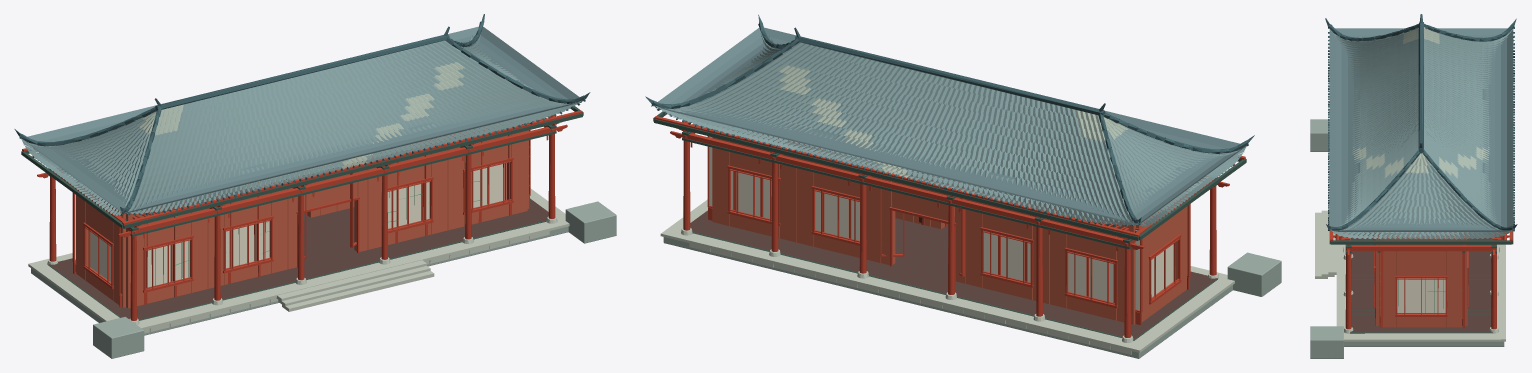
The model's file is daguanyuan_gate.glb.
The picture shows the model from 3 angles, left to right: view 1: azimuth 30°, elevation 25°; view 2: azimuth 150°, elevation 25°; view 3: azimuth 270°, elevation 25°; orthographic projection. The views are drawn at different scales.
Visible parts, largest first — view 1: r15_daguanyuan_gate_Sunwen_r18_ceremonial_tile.001, r15_daguanyuan_gate_Sunwen_r18_vermillion-wall_plaster.001, r15_daguanyuan_gate_Sunwen_r18_ceremonial_wood.001, r15_daguanyuan_gate_Sunwen_r18_ceremonial_roof.001, r15_daguanyuan_gate_Sunwen_r18_ceremonial_cutstone.001, Mobile_daguanyuan_gate_floorwood, r15_daguanyuan_gate_Sunwen_r18_ceremonial_screen.002, r15_daguanyuan_gate_Sunwen_r18_ceremonial_darkwood.001, r15_daguanyuan_gate_Sunwen_r18_ceremonial_tiledark.001, r15_daguanyuan_gate_Sunwen_r18_ceremonial_stone.001, r15_daguanyuan_gate_Sunwen_r18_ceremonial_tilelight.001, r15_daguanyuan_gate_Sunwen_r18_ceremonial_latticewood.001; view 2: r15_daguanyuan_gate_Sunwen_r18_ceremonial_tile.001, r15_daguanyuan_gate_Sunwen_r18_vermillion-wall_plaster.001, r15_daguanyuan_gate_Sunwen_r18_ceremonial_wood.001, r15_daguanyuan_gate_Sunwen_r18_ceremonial_roof.001, Mobile_daguanyuan_gate_floorwood, r15_daguanyuan_gate_Sunwen_r18_ceremonial_cutstone.001, r15_daguanyuan_gate_Sunwen_r18_ceremonial_screen.001, r15_daguanyuan_gate_Sunwen_r18_ceremonial_darkwood.001, r15_daguanyuan_gate_Sunwen_r18_ceremonial_tiledark.001, r15_daguanyuan_gate_Sunwen_r18_ceremonial_stone.001, r15_daguanyuan_gate_Sunwen_r18_ceremonial_tilelight.001, r15_daguanyuan_gate_Sunwen_r18_ceremonial_screen.002; view 3: r15_daguanyuan_gate_Sunwen_r18_ceremonial_tile.001, r15_daguanyuan_gate_Sunwen_r18_ceremonial_roof.001, r15_daguanyuan_gate_Sunwen_r18_vermillion-wall_plaster.001, Mobile_daguanyuan_gate_floorwood, r15_daguanyuan_gate_Sunwen_r18_ceremonial_cutstone.001, r15_daguanyuan_gate_Sunwen_r18_ceremonial_wood.001, r15_daguanyuan_gate_Sunwen_r18_ceremonial_tiledark.001, r15_daguanyuan_gate_Sunwen_r18_ceremonial_stone.001, r15_daguanyuan_gate_Sunwen_r18_ceremonial_tilelight.001, r15_daguanyuan_gate_Sunwen_r18_ceremonial_screen.002, r15_daguanyuan_gate_Sunwen_r18_ceremonial_darkwood.001.
Part boxes in pixels (x1,y1,x2,y2): r15_daguanyuan_gate_Sunwen_r18_ceremonial_tile.001: (21,34,583,215); r15_daguanyuan_gate_Sunwen_r18_vermillion-wall_plaster.001: (76,123,528,308); r15_daguanyuan_gate_Sunwen_r18_ceremonial_wood.001: (22,110,582,320); r15_daguanyuan_gate_Sunwen_r18_ceremonial_roof.001: (21,26,581,213); r15_daguanyuan_gate_Sunwen_r18_ceremonial_cutstone.001: (28,188,569,333); Mobile_daguanyuan_gate_floorwood: (48,198,548,319); r15_daguanyuan_gate_Sunwen_r18_ceremonial_screen.002: (90,163,506,287); r15_daguanyuan_gate_Sunwen_r18_ceremonial_darkwood.001: (21,106,583,320); r15_daguanyuan_gate_Sunwen_r18_ceremonial_tiledark.001: (14,14,590,215); r15_daguanyuan_gate_Sunwen_r18_ceremonial_stone.001: (31,201,616,358); r15_daguanyuan_gate_Sunwen_r18_ceremonial_tilelight.001: (134,48,471,168); r15_daguanyuan_gate_Sunwen_r18_ceremonial_latticewood.001: (155,146,529,285); r15_daguanyuan_gate_Sunwen_r18_ceremonial_tile.001: (653,32,1246,227); r15_daguanyuan_gate_Sunwen_r18_vermillion-wall_plaster.001: (712,129,1187,324); r15_daguanyuan_gate_Sunwen_r18_ceremonial_wood.001: (654,116,1245,337); r15_daguanyuan_gate_Sunwen_r18_ceremonial_roof.001: (653,27,1246,224); Mobile_daguanyuan_gate_floorwood: (690,210,1217,339); r15_daguanyuan_gate_Sunwen_r18_ceremonial_cutstone.001: (660,199,1234,354); r15_daguanyuan_gate_Sunwen_r18_ceremonial_screen.001: (709,136,1139,310); r15_daguanyuan_gate_Sunwen_r18_ceremonial_darkwood.001: (653,111,1246,340); r15_daguanyuan_gate_Sunwen_r18_ceremonial_tiledark.001: (645,14,1254,226); r15_daguanyuan_gate_Sunwen_r18_ceremonial_stone.001: (663,237,1281,358); r15_daguanyuan_gate_Sunwen_r18_ceremonial_tilelight.001: (778,45,1127,177); r15_daguanyuan_gate_Sunwen_r18_ceremonial_screen.002: (1151,244,1173,296); r15_daguanyuan_gate_Sunwen_r18_ceremonial_tile.001: (1329,29,1513,239); r15_daguanyuan_gate_Sunwen_r18_ceremonial_roof.001: (1329,28,1513,231); r15_daguanyuan_gate_Sunwen_r18_vermillion-wall_plaster.001: (1375,232,1467,327); Mobile_daguanyuan_gate_floorwood: (1350,232,1492,332); r15_daguanyuan_gate_Sunwen_r18_ceremonial_cutstone.001: (1315,208,1505,341); r15_daguanyuan_gate_Sunwen_r18_ceremonial_wood.001: (1330,230,1512,329); r15_daguanyuan_gate_Sunwen_r18_ceremonial_tiledark.001: (1325,14,1517,231); r15_daguanyuan_gate_Sunwen_r18_ceremonial_stone.001: (1310,119,1504,358); r15_daguanyuan_gate_Sunwen_r18_ceremonial_tilelight.001: (1352,28,1489,178); r15_daguanyuan_gate_Sunwen_r18_ceremonial_screen.002: (1397,278,1445,312); r15_daguanyuan_gate_Sunwen_r18_ceremonial_darkwood.001: (1329,231,1513,333).
Size of the model in its own units: 27.81 by 9.98 by 11.02.
